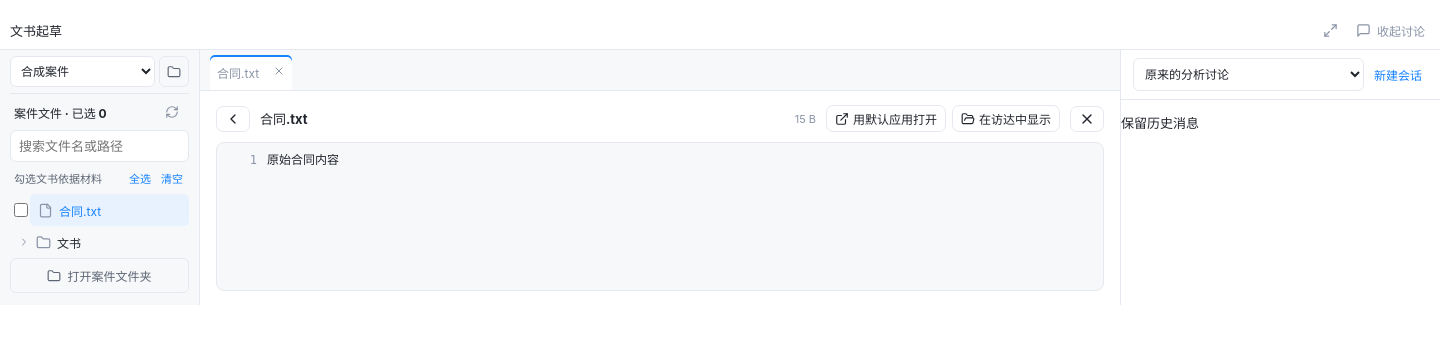
Test: retired issues page preserves open files and historical discussion without a dead locate action
The width and height of the screenshot is (1440, 364).
Expected: the text "原始合同内容" is shown, [267,151,339,170]
Expected: the dropdown named "历史会话" shows "原来的分析讨论", [1133,58,1364,91]
Click the button named "关闭 合同.txt": (279, 72) [266,55,292,90]
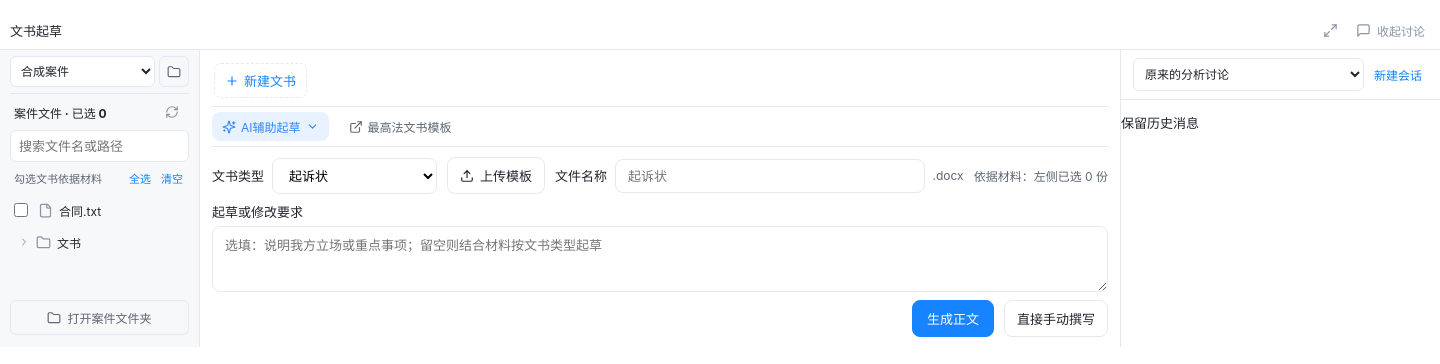
Now the element named "文书起草工作区" is shown, box [212,56,1108,347]
